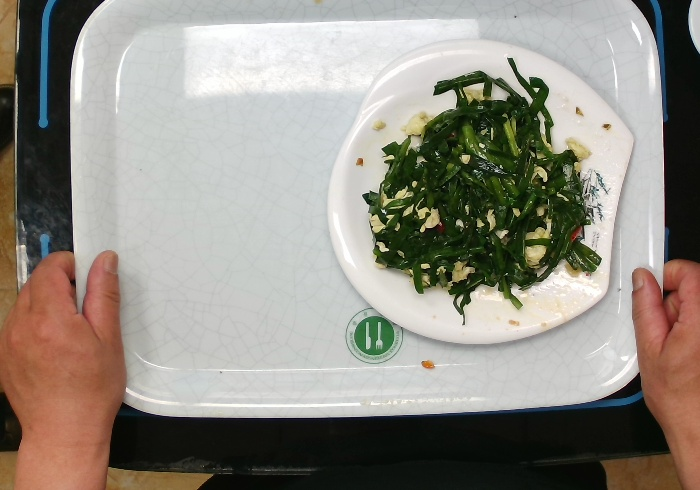JYsf-Mian_Pan: (319, 33, 637, 351)
